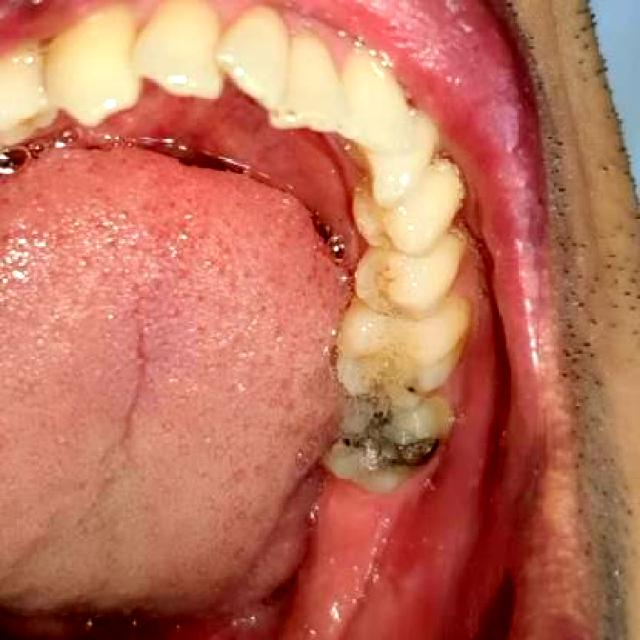Plaque: (399, 379, 429, 400)
